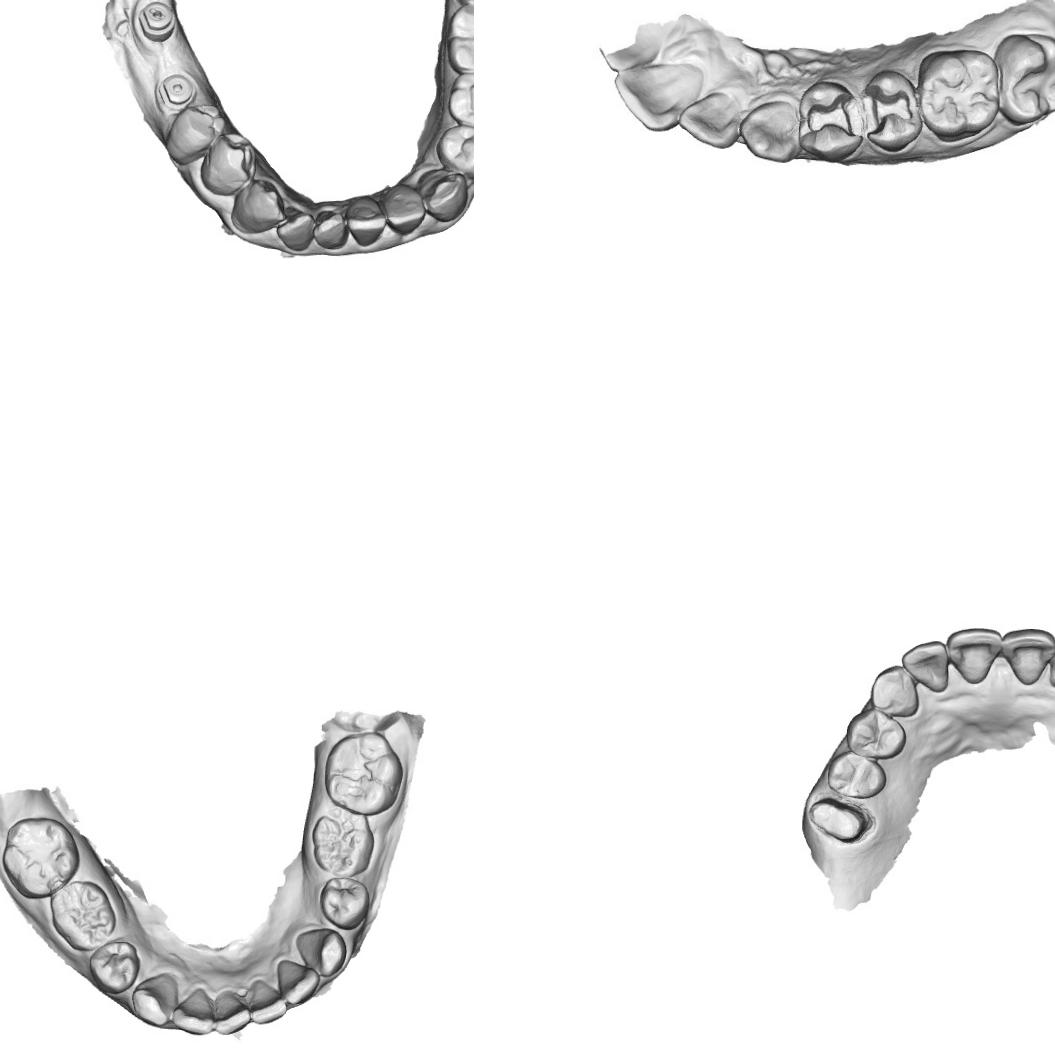canine: (737, 94, 795, 162), (228, 179, 284, 238), (870, 664, 922, 720), (293, 926, 349, 976), (130, 970, 178, 1028), (420, 171, 470, 224)
crown: (803, 792, 876, 847)
implant: (152, 72, 199, 110)
implant_minus: (130, 0, 179, 44)
incisor: (616, 57, 706, 131), (945, 625, 1003, 687), (998, 626, 1055, 688), (682, 84, 740, 142), (900, 638, 951, 695), (378, 183, 427, 237), (343, 194, 388, 250), (169, 986, 216, 1037), (272, 963, 322, 1009), (240, 982, 289, 1028), (209, 991, 254, 1037), (272, 212, 316, 256), (310, 207, 351, 254)
inlay: (860, 81, 914, 138), (800, 92, 860, 140)
molar: (322, 729, 406, 817), (920, 46, 1004, 133), (0, 814, 81, 901), (993, 29, 1055, 118), (48, 877, 116, 952), (307, 810, 376, 878), (445, 2, 474, 77)
premolar: (164, 98, 229, 164), (197, 130, 259, 198), (844, 706, 909, 762), (824, 750, 888, 800), (87, 939, 142, 997), (318, 874, 371, 931), (435, 122, 474, 177), (445, 70, 474, 132)
